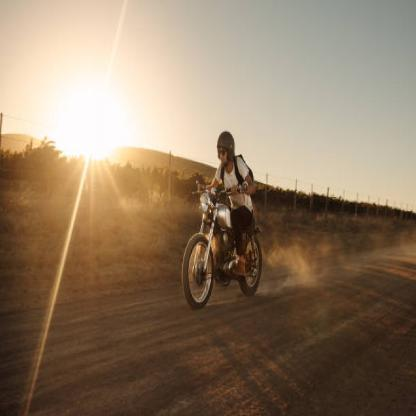Motorcycle: (177, 169, 266, 308)
